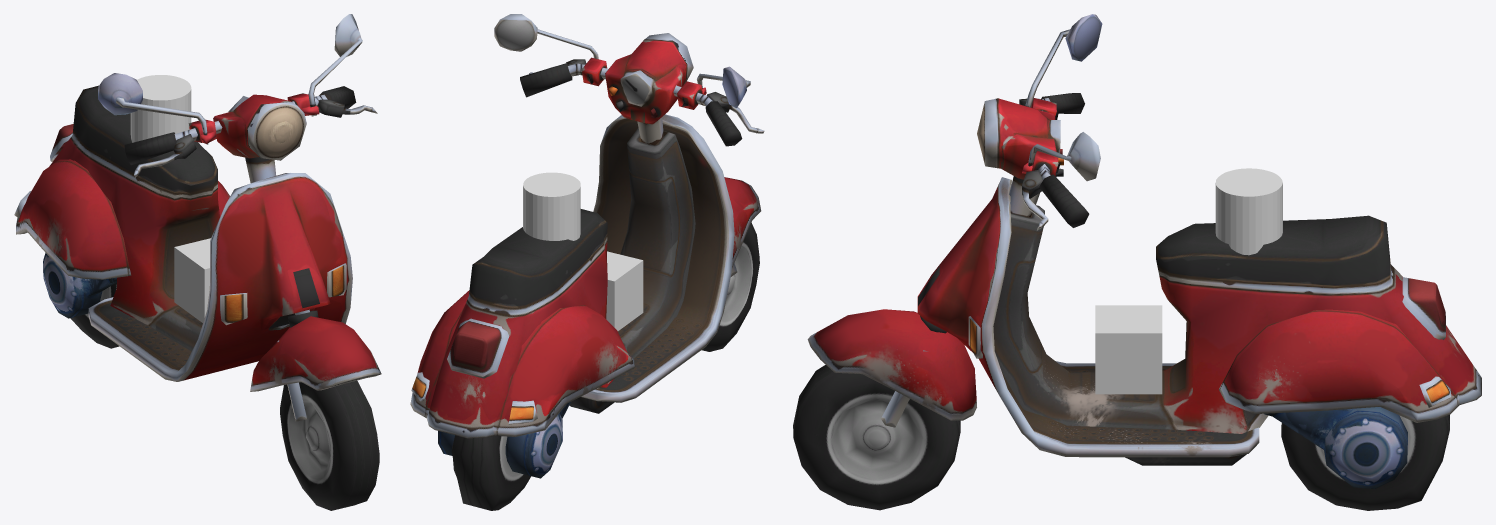
Rendered from scooter-lod1-meshopt.glb.
The picture shows the model from 3 angles, left to right: view 1: azimuth 30°, elevation 25°; view 2: azimuth 150°, elevation 25°; view 3: azimuth 270°, elevation 25°; orthographic projection. The views are drawn at different scales.
Visible parts, largest first — view 1: Donut_Scooter_Gadget_3_0, TimeframeMainGroup.003, FrontWheel_Mesh, TimeframeMainGroup.002, Motor, Battery, TimeframeMainGroup.001, TimeframeMainGroup.005, TimeframeMainGroup.006, RearWheel_Mesh; view 2: Donut_Scooter_Gadget_3_0, TimeframeMainGroup.003, RearWheel_Mesh, Motor, FrontWheel_Mesh, TimeframeMainGroup.001, Battery, TimeframeMainGroup.002, TimeframeMainGroup.006, TimeframeMainGroup.005; view 3: Donut_Scooter_Gadget_3_0, FrontWheel_Mesh, TimeframeMainGroup.002, TimeframeMainGroup.003, TimeframeMainGroup.001, RearWheel_Mesh, Battery, Motor, TimeframeMainGroup.005, TimeframeMainGroup.006.
Boxes of the visible parts, left/top/right/bottom form: Donut_Scooter_Gadget_3_0: left=14, top=85, right=352, bottom=421; TimeframeMainGroup.003: left=116, top=37, right=377, bottom=183; FrontWheel_Mesh: left=280, top=380, right=379, bottom=510; TimeframeMainGroup.002: left=250, top=316, right=381, bottom=391; Motor: left=130, top=75, right=191, bottom=142; Battery: left=174, top=238, right=210, bottom=322; TimeframeMainGroup.001: left=43, top=253, right=116, bottom=318; TimeframeMainGroup.005: left=98, top=73, right=142, bottom=115; TimeframeMainGroup.006: left=334, top=14, right=362, bottom=56; RearWheel_Mesh: left=70, top=282, right=119, bottom=348; Donut_Scooter_Gadget_3_0: left=410, top=114, right=737, bottom=438; TimeframeMainGroup.003: left=520, top=29, right=764, bottom=146; RearWheel_Mesh: left=451, top=435, right=530, bottom=510; Motor: left=523, top=172, right=580, bottom=240; FrontWheel_Mesh: left=701, top=223, right=759, bottom=351; TimeframeMainGroup.001: left=438, top=402, right=570, bottom=478; Battery: left=606, top=251, right=643, bottom=330; TimeframeMainGroup.002: left=724, top=177, right=761, bottom=267; TimeframeMainGroup.006: left=494, top=14, right=537, bottom=51; TimeframeMainGroup.005: left=722, top=66, right=746, bottom=108; Donut_Scooter_Gadget_3_0: left=881, top=177, right=1481, bottom=465; FrontWheel_Mesh: left=793, top=364, right=960, bottom=510; TimeframeMainGroup.002: left=807, top=309, right=976, bottom=420; TimeframeMainGroup.003: left=977, top=29, right=1089, bottom=230; TimeframeMainGroup.001: left=1264, top=407, right=1407, bottom=489; RearWheel_Mesh: left=1281, top=415, right=1449, bottom=510; Battery: left=1095, top=305, right=1162, bottom=394; Motor: left=1215, top=168, right=1282, bottom=255; TimeframeMainGroup.005: left=1065, top=14, right=1102, bottom=61; TimeframeMainGroup.006: left=1067, top=132, right=1100, bottom=181.
Bounding box in the file's own units: 0.9898 × 1.42 × 2.06.
8 materials, 8 textured.
